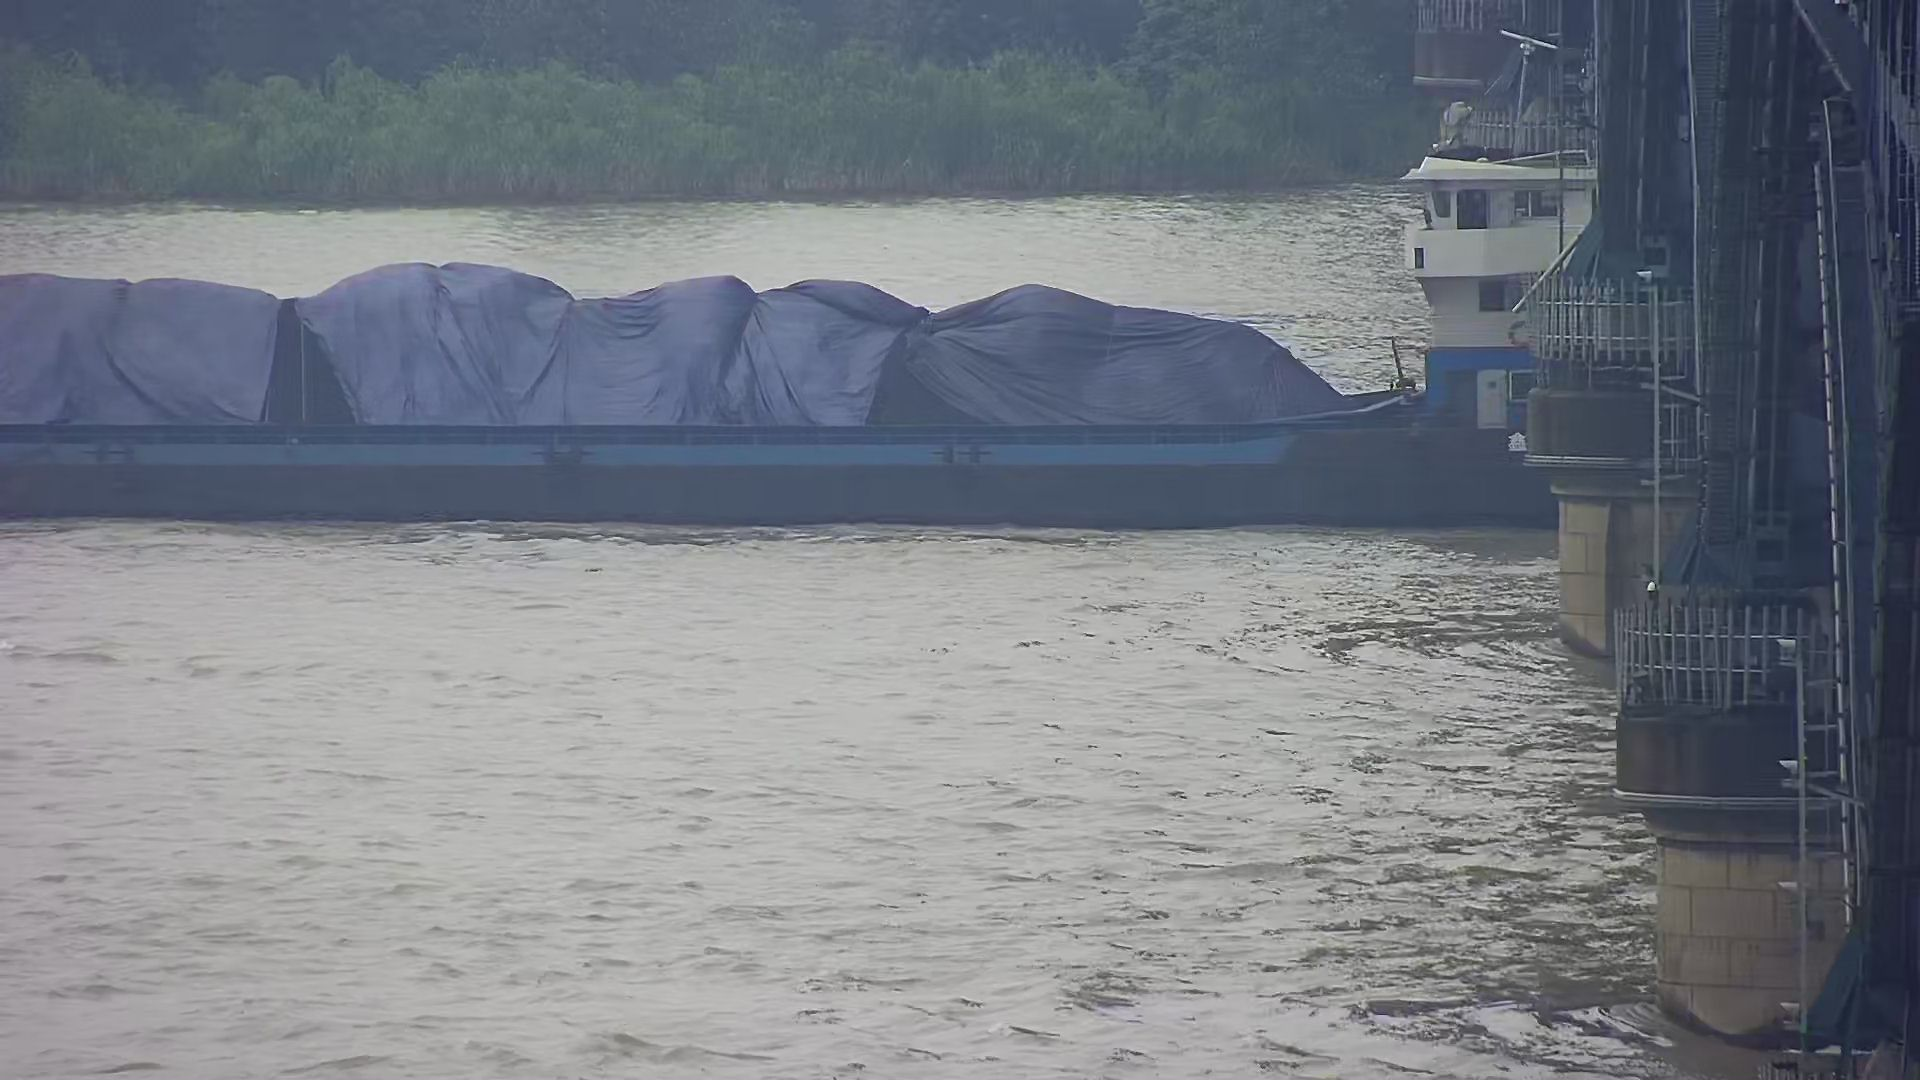bridge: (1523, 12, 1920, 1080)
ship: (7, 1, 1613, 534)
